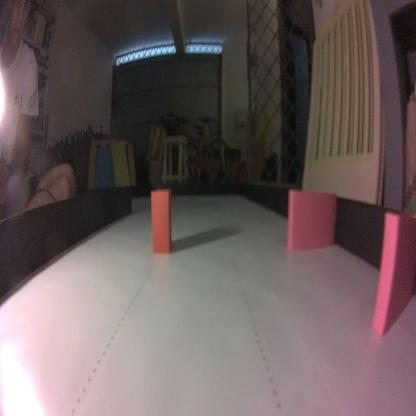magenta: (370, 209, 416, 334), (286, 187, 339, 256)
red: (150, 183, 170, 253)
